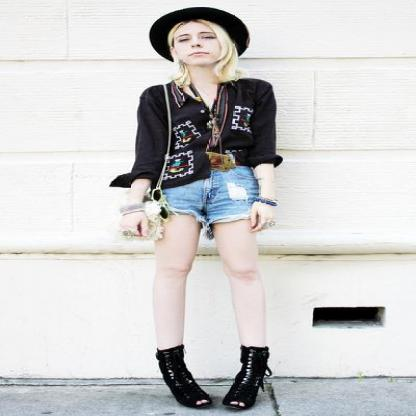bag: (140, 209, 175, 242)
hat: (150, 7, 249, 57)
jacket: (112, 78, 282, 218)
shoe: (156, 344, 271, 407)
shorts: (162, 158, 262, 239)
